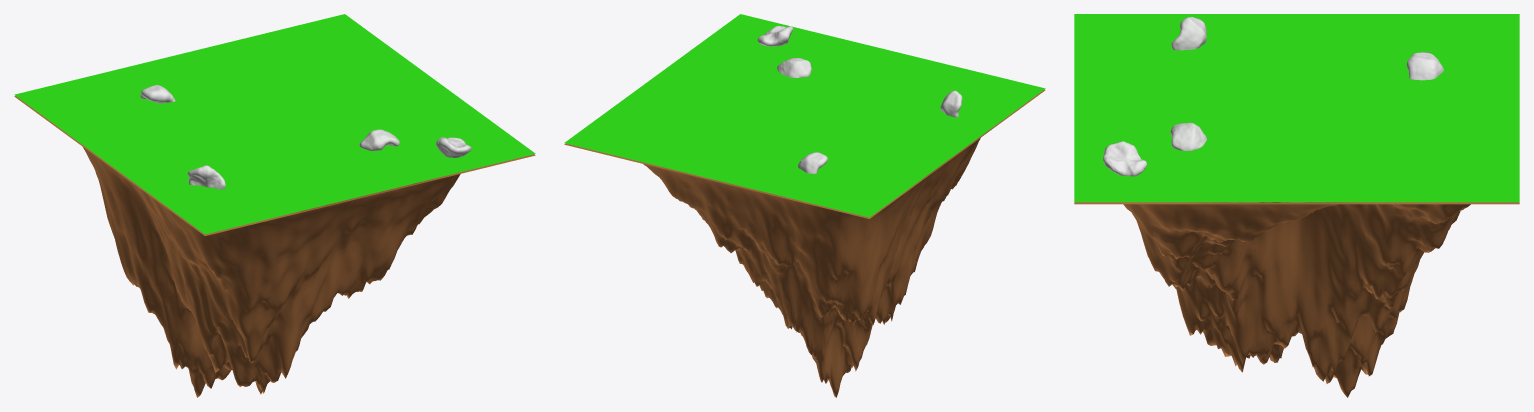
Rendered from grassyIslandWithRocks.fbx.
3 views of the same model, side by side, from view 1: azimuth 30°, elevation 25°; view 2: azimuth 150°, elevation 25°; view 3: azimuth 270°, elevation 25° (orthographic). The views are drawn at different scales.
Parts seen in each view (by area): view 1: Plane, Landscape, rock.002, rock, rock.001, rock.003; view 2: Plane, Landscape, rock, rock.001, rock.003, rock.002; view 3: Plane, Landscape, rock.001, rock.002, rock, rock.003.
Part boxes in pixels (x1,y1,x2,y2): Plane: [14, 14, 535, 234]; Landscape: [14, 96, 535, 397]; rock.002: [187, 165, 225, 189]; rock: [359, 129, 399, 150]; rock.001: [436, 137, 471, 157]; rock.003: [140, 85, 175, 103]; Plane: [564, 14, 1045, 217]; Landscape: [564, 89, 1045, 397]; rock: [777, 58, 811, 77]; rock.001: [757, 26, 793, 46]; rock.003: [798, 152, 827, 173]; rock.002: [940, 90, 962, 117]; Plane: [1074, 14, 1519, 202]; Landscape: [1074, 202, 1519, 397]; rock.001: [1103, 141, 1146, 176]; rock.002: [1171, 17, 1206, 50]; rock: [1170, 122, 1206, 151]; rock.003: [1406, 52, 1443, 80].
Bounding box in the file's own units: 1200 × 1029 × 1200.
